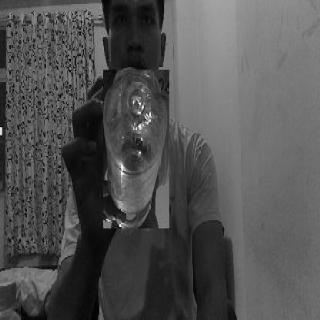plastic_bottles: (103, 70, 170, 228)
